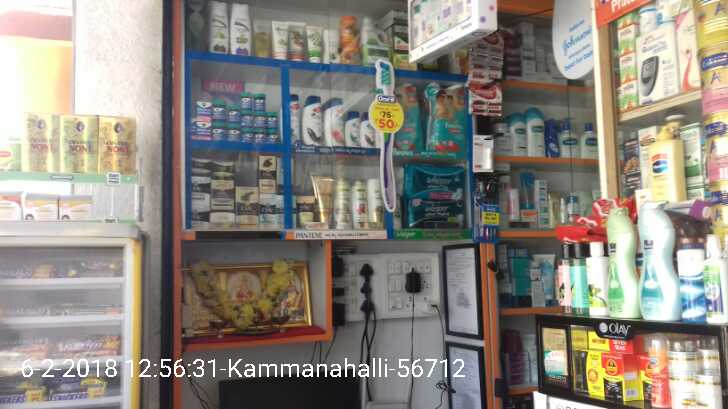beauty: (308, 173, 336, 230), (303, 95, 323, 148), (323, 93, 342, 146), (365, 179, 385, 227), (234, 185, 258, 223), (255, 195, 286, 223), (350, 179, 368, 227), (335, 177, 351, 227), (189, 176, 210, 211), (212, 181, 234, 213), (260, 156, 278, 195), (342, 110, 360, 146), (288, 94, 300, 145), (190, 157, 211, 181), (212, 161, 237, 181), (190, 207, 211, 227)
pharmacy: (427, 80, 466, 153), (401, 162, 465, 202), (392, 83, 423, 150), (407, 196, 467, 228), (193, 117, 214, 143), (211, 99, 228, 119), (195, 101, 212, 120), (239, 112, 255, 131), (211, 122, 227, 140), (238, 92, 253, 111), (226, 103, 241, 121), (267, 110, 279, 130), (254, 111, 266, 131), (265, 129, 279, 145), (254, 92, 265, 112), (239, 128, 252, 144), (252, 129, 264, 144), (228, 125, 238, 142)
